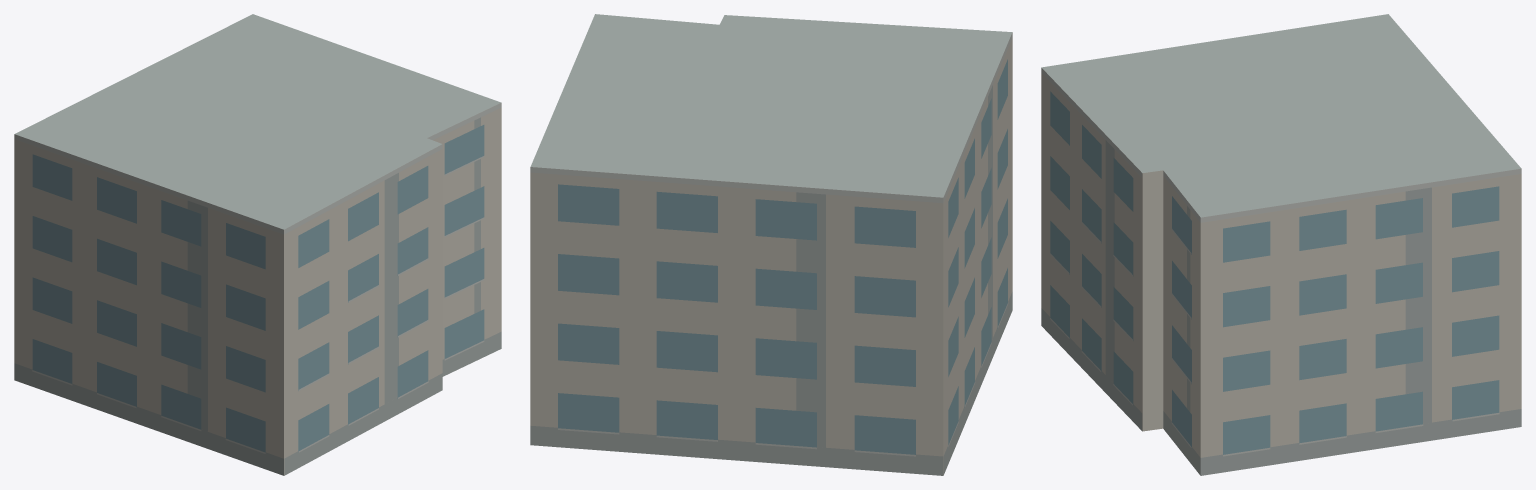
File: residential-b94e6dd0-0f55-4c2c-af2e-b558a32a3a8c.glb
3 views of the same model, side by side, from view 1: azimuth 30°, elevation 25°; view 2: azimuth 150°, elevation 25°; view 3: azimuth 270°, elevation 25° (orthographic). The views are drawn at different scales.
Visible parts, largest first — view 1: residential-b94e6dd0-0f55-4c2c-af2e-b558a32a3a8c.tmp; view 2: residential-b94e6dd0-0f55-4c2c-af2e-b558a32a3a8c.tmp; view 3: residential-b94e6dd0-0f55-4c2c-af2e-b558a32a3a8c.tmp.
Boxes of the visible parts, x1=… form: residential-b94e6dd0-0f55-4c2c-af2e-b558a32a3a8c.tmp: x1=14, y1=14, x2=501, y2=475; residential-b94e6dd0-0f55-4c2c-af2e-b558a32a3a8c.tmp: x1=530, y1=14, x2=1012, y2=475; residential-b94e6dd0-0f55-4c2c-af2e-b558a32a3a8c.tmp: x1=1041, y1=14, x2=1521, y2=475.
Size of the model in its own units: 20.64 by 12.2 by 20.57.
